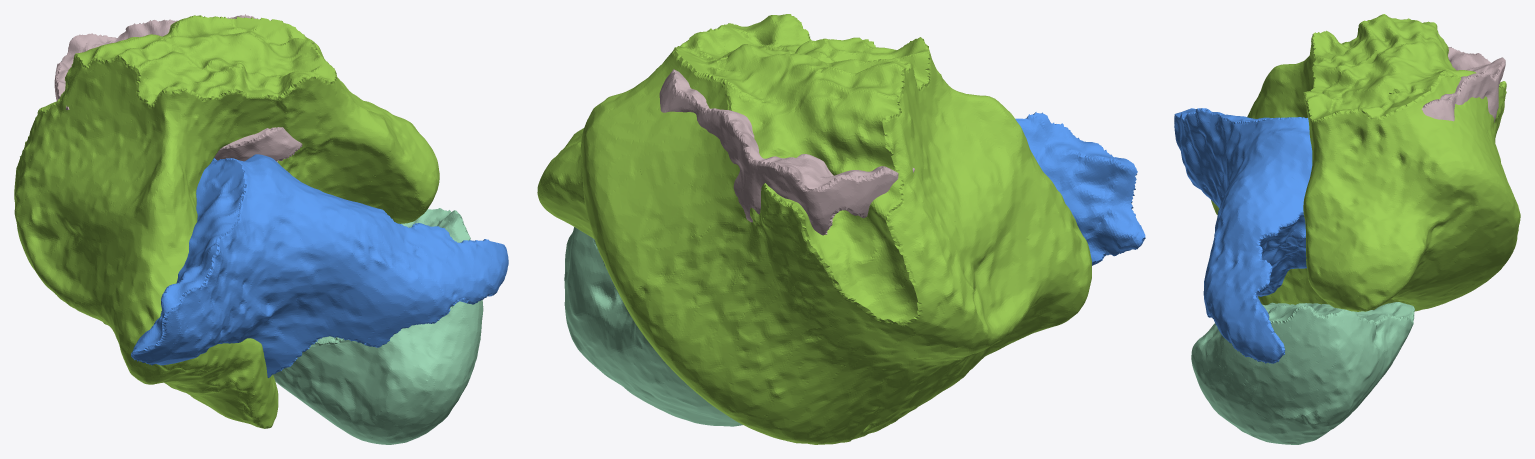
The model's file is AMNH_216242_Galago-crassicaudatus_Left-Ast_Smooth.glb.
3 views of the same model, side by side, from view 1: azimuth 30°, elevation 25°; view 2: azimuth 150°, elevation 25°; view 3: azimuth 270°, elevation 25° (orthographic). The views are drawn at different scales.
Parts seen in each view (by area): view 1: world; view 2: world; view 3: world.
Part boxes in pixels (box(x1,y1,x2,y2)): world: box(14, 14, 508, 444); world: box(537, 14, 1145, 444); world: box(1174, 14, 1520, 444).
Size of the model in its own units: 1.09 by 0.9583 by 0.8934.
